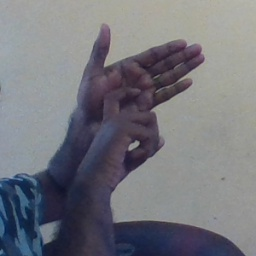R: (62, 22, 212, 187)
